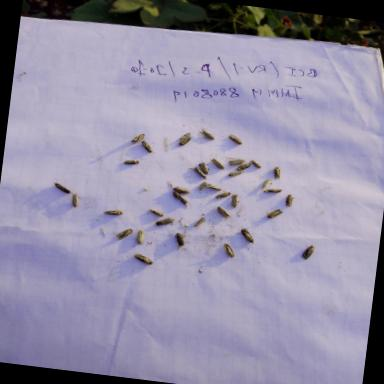pbw: (168, 189, 190, 209), (112, 224, 134, 243), (100, 204, 125, 220), (50, 176, 72, 194), (152, 212, 176, 228), (298, 241, 316, 262), (214, 203, 233, 222), (138, 138, 158, 156), (280, 192, 298, 212), (132, 227, 150, 247), (132, 251, 156, 266), (238, 226, 256, 244), (127, 130, 147, 146), (196, 127, 216, 143), (264, 206, 284, 222), (170, 182, 192, 196), (68, 190, 82, 212), (192, 214, 209, 232), (220, 240, 237, 258), (171, 232, 189, 248), (258, 176, 276, 192), (228, 192, 243, 210), (206, 180, 225, 194), (146, 207, 168, 218), (195, 160, 212, 174), (213, 189, 232, 201), (176, 128, 192, 142), (209, 157, 226, 170), (122, 155, 140, 167), (226, 133, 244, 145), (190, 167, 209, 178), (226, 156, 246, 166), (226, 168, 245, 178), (178, 134, 192, 147), (263, 186, 283, 195), (195, 179, 208, 192), (250, 157, 264, 169), (236, 161, 250, 170), (272, 164, 280, 179)
